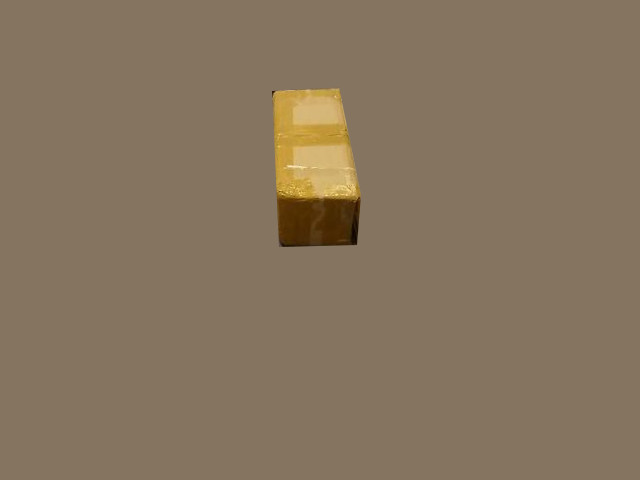cardboard: (274, 92, 359, 245)
